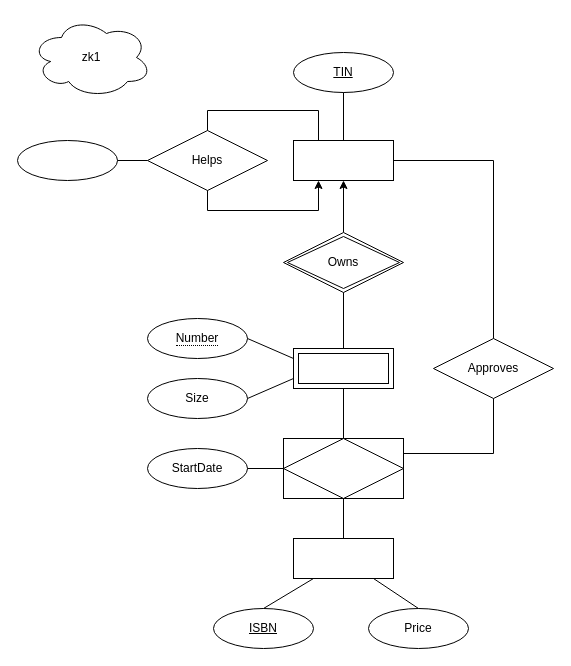
Some shapes in this 571 by 666 pixel diagram are drawn without their labels. The shapes that lost their labels are listed below. From the top down, each one's centre as x and y in pixels, then its label:
At pixel 67 160: "Fee".
At pixel 343 160: "Company".
At pixel 343 368: "Store".
At pixel 343 468: "Sells".
At pixel 343 558: "Book".
